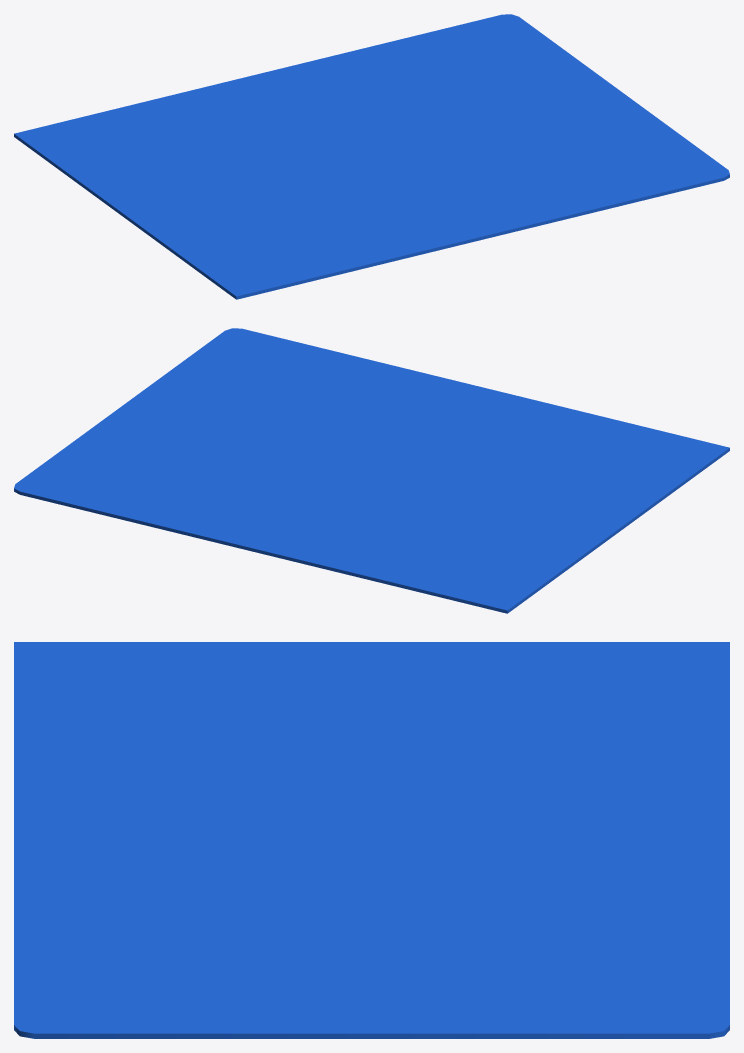
The model's file is LogBook.fbx.
3 views of the same model, one above another, from view 1: azimuth 30°, elevation 25°; view 2: azimuth 150°, elevation 25°; view 3: azimuth 270°, elevation 25° (orthographic). The views are drawn at different scales.
Visible parts, largest first — view 1: Logbook Front Cover, Logbook Back Cover; view 2: Logbook Front Cover, Logbook Back Cover; view 3: Logbook Front Cover, Logbook Back Cover.
Boxes of the visible parts, left/top/right/bottom form: Logbook Front Cover: left=14, top=14, right=729, bottom=297; Logbook Back Cover: left=14, top=135, right=729, bottom=299; Logbook Front Cover: left=14, top=328, right=729, bottom=611; Logbook Back Cover: left=14, top=449, right=729, bottom=613; Logbook Front Cover: left=14, top=642, right=729, bottom=1036; Logbook Back Cover: left=14, top=1028, right=729, bottom=1038.
Size of the model in its own units: 20.14 by 0.1269 by 15.56.
